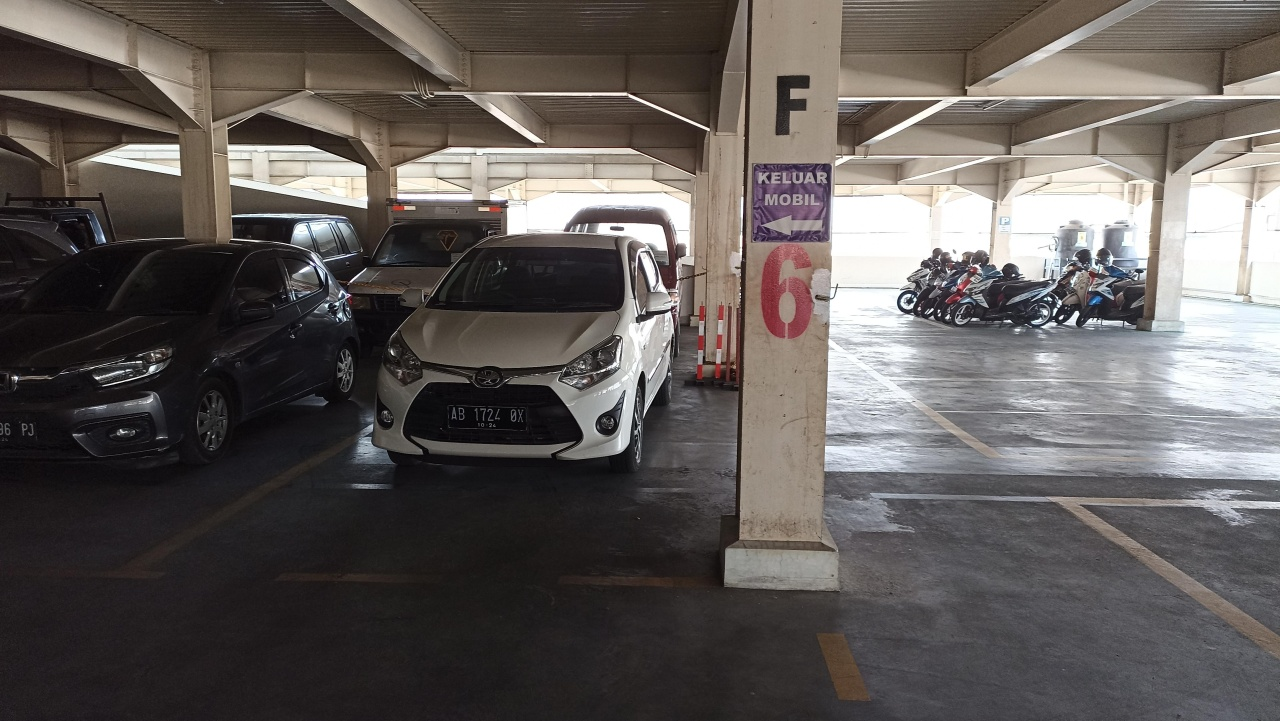plate: (448, 406, 528, 432)
